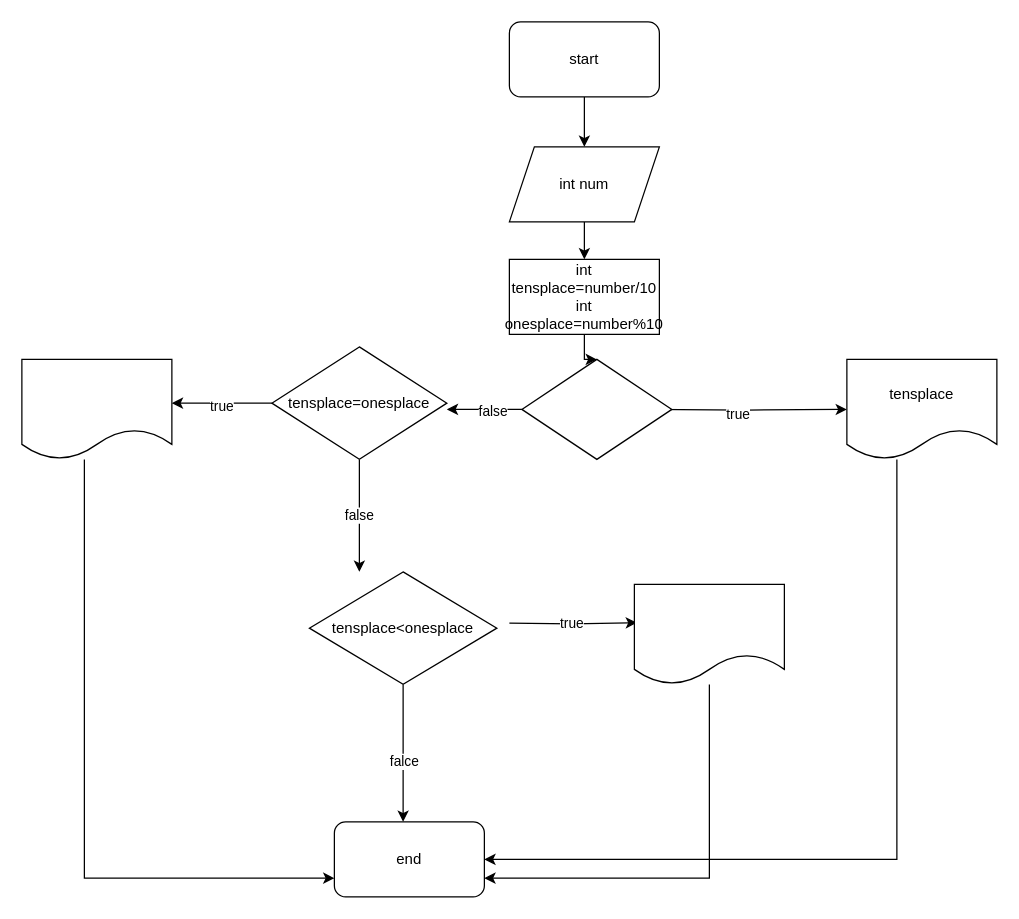
Some shapes in this 1019 by 919 pixel diagram are drawn without their labels. Each missing label, with the box of its shape:
onesplace: (633, 583, 784, 684)
tensplace>onesplace: (521, 358, 672, 459)
they are equal: (21, 358, 172, 459)
